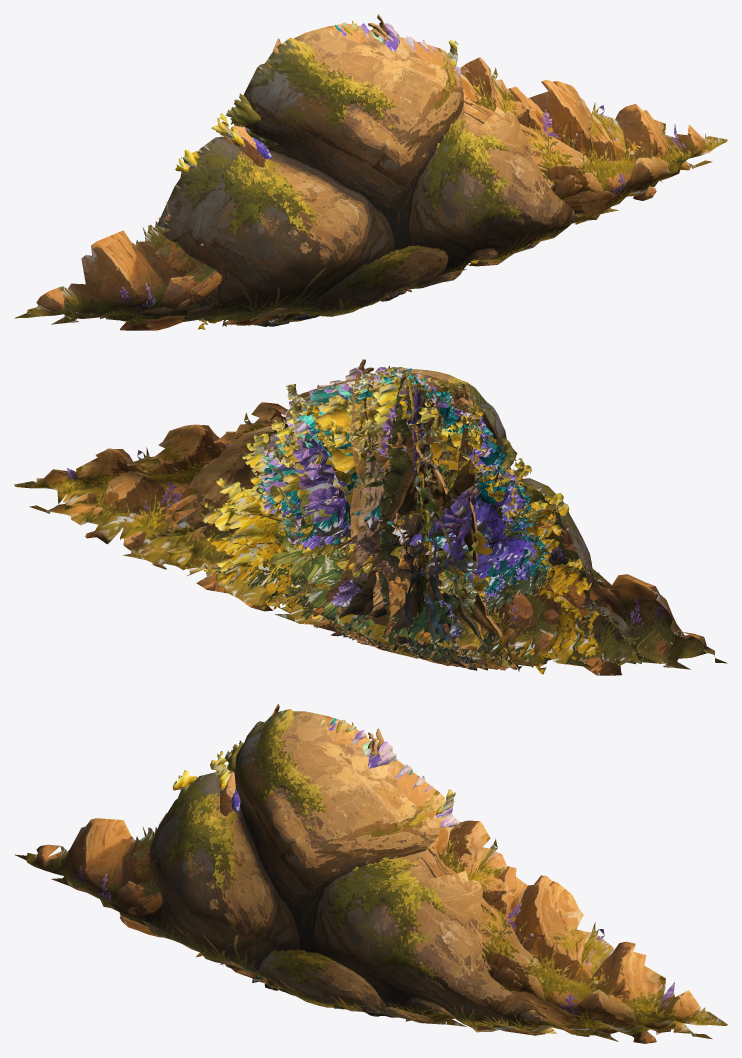
File: volumes.glb
The picture shows the model from 3 angles, top to bottom: view 1: azimuth 30°, elevation 25°; view 2: azimuth 150°, elevation 25°; view 3: azimuth 330°, elevation 25°; orthographic projection.
Visible parts, largest first — view 1: lame_rochers, lame_eboulis, lame_buisson_jaune, lame_chene, lame_arbre_violet, lame_statue2; view 2: lame_eboulis, lame_buisson_jaune, lame_fleurs, lame_rochers, lame_chene, lame_arbre_violet, lame_arbre_turquoise, lame_statue2, lame_falaise, lame_cypres, lame_statue; view 3: lame_rochers, lame_eboulis, lame_arbre_violet, lame_buisson_jaune.
Boxes of the visible parts, x1,y1,x2,y2 form: lame_rochers: (102, 27, 582, 321); lame_eboulis: (14, 24, 727, 330); lame_buisson_jaune: (158, 21, 478, 329); lame_chene: (225, 28, 334, 148); lame_arbre_violet: (246, 22, 461, 306); lame_statue2: (225, 38, 319, 325); lame_eboulis: (14, 368, 727, 675); lame_buisson_jaune: (201, 366, 605, 674); lame_fleurs: (258, 371, 493, 658); lame_rochers: (147, 369, 657, 667); lame_chene: (271, 370, 546, 666); lame_arbre_violet: (259, 367, 535, 658); lame_arbre_turquoise: (256, 368, 550, 670); lame_statue2: (333, 383, 517, 670); lame_falaise: (314, 367, 480, 663); lame_cypres: (378, 369, 431, 658); lame_statue: (309, 359, 494, 665); lame_rochers: (100, 709, 556, 1033); lame_eboulis: (14, 716, 727, 1043); lame_arbre_violet: (232, 720, 460, 1011); lame_buisson_jaune: (155, 721, 455, 1009).
Bounding box in the file's own units: 2.61 × 1 × 0.3.
11 materials, 11 textured.
